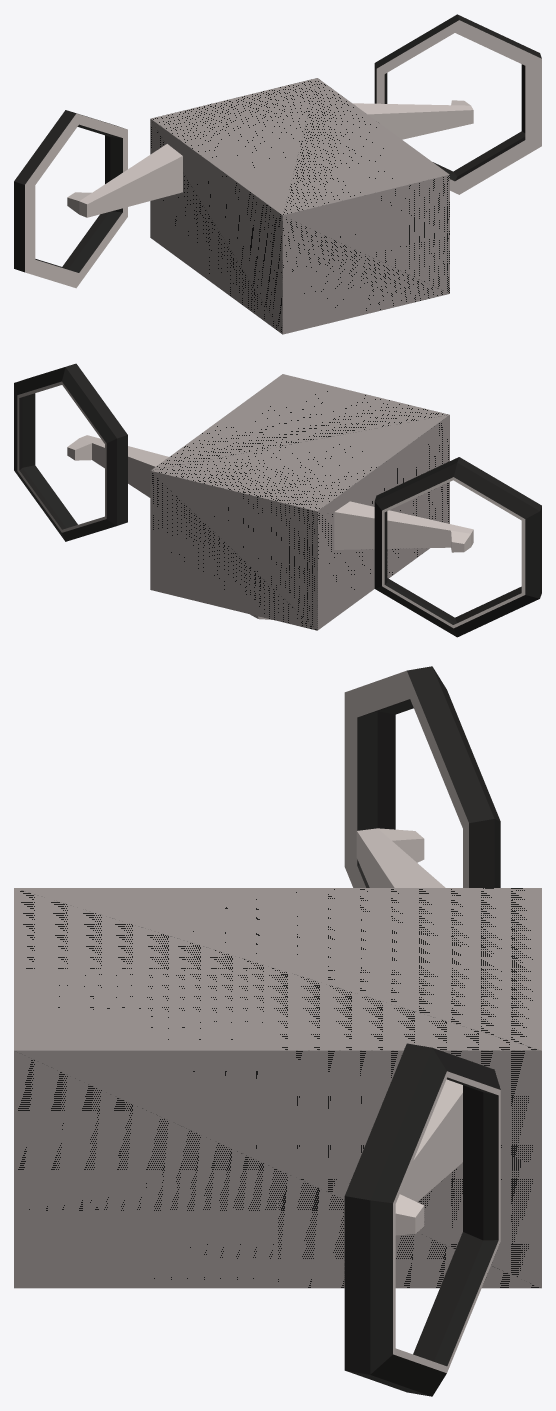
The model's file is droneTarget2.fbx.
3 views of the same model, one above another, from view 1: azimuth 30°, elevation 25°; view 2: azimuth 150°, elevation 25°; view 3: azimuth 270°, elevation 25° (orthographic). The views are drawn at different scales.
Parts seen in each view (by area): view 1: Body, BotorBladeL, BotorBladeR; view 2: Body, BotorBladeL, BotorBladeR; view 3: Body, BotorBladeR, BotorBladeL.
Boxes of the visible parts, left/top/right/bottom form: Body: left=150, top=78, right=449, bottom=334; BotorBladeL: left=14, top=110, right=182, bottom=288; BotorBladeR: left=353, top=14, right=541, bottom=194; Body: left=150, top=374, right=449, bottom=630; BotorBladeL: left=334, top=457, right=541, bottom=637; BotorBladeR: left=14, top=363, right=168, bottom=541; Body: left=14, top=888, right=541, bottom=1288; BotorBladeR: left=344, top=1043, right=500, bottom=1396; BotorBladeL: left=344, top=666, right=500, bottom=887.
Bounding box in the file's own units: 630 × 231 × 274.
Materials: 2 (2 with a texture image).
